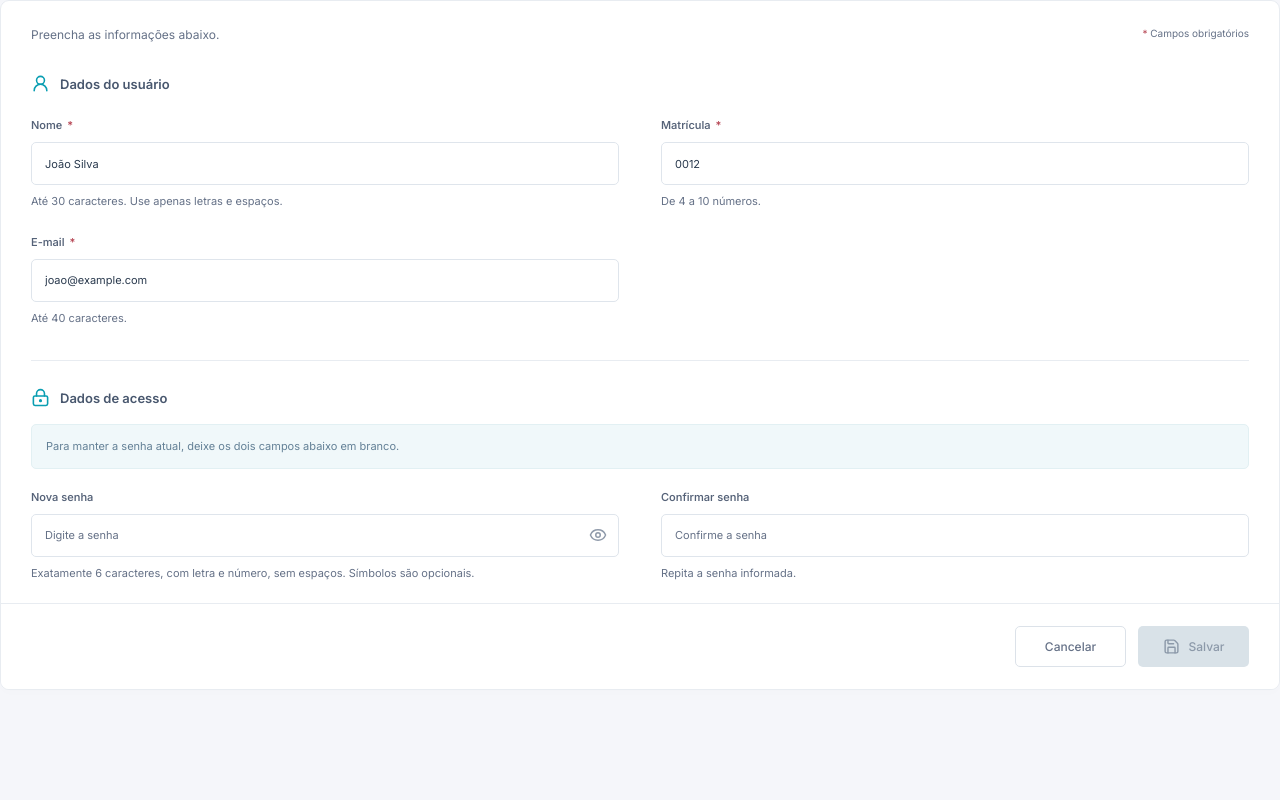
Test case: UserForm › associates duplicate errors with the field and permits correction
Replace the text in the field labelled "E-mail *" with "other@example.com" at (325, 280), box [31,259,619,302]
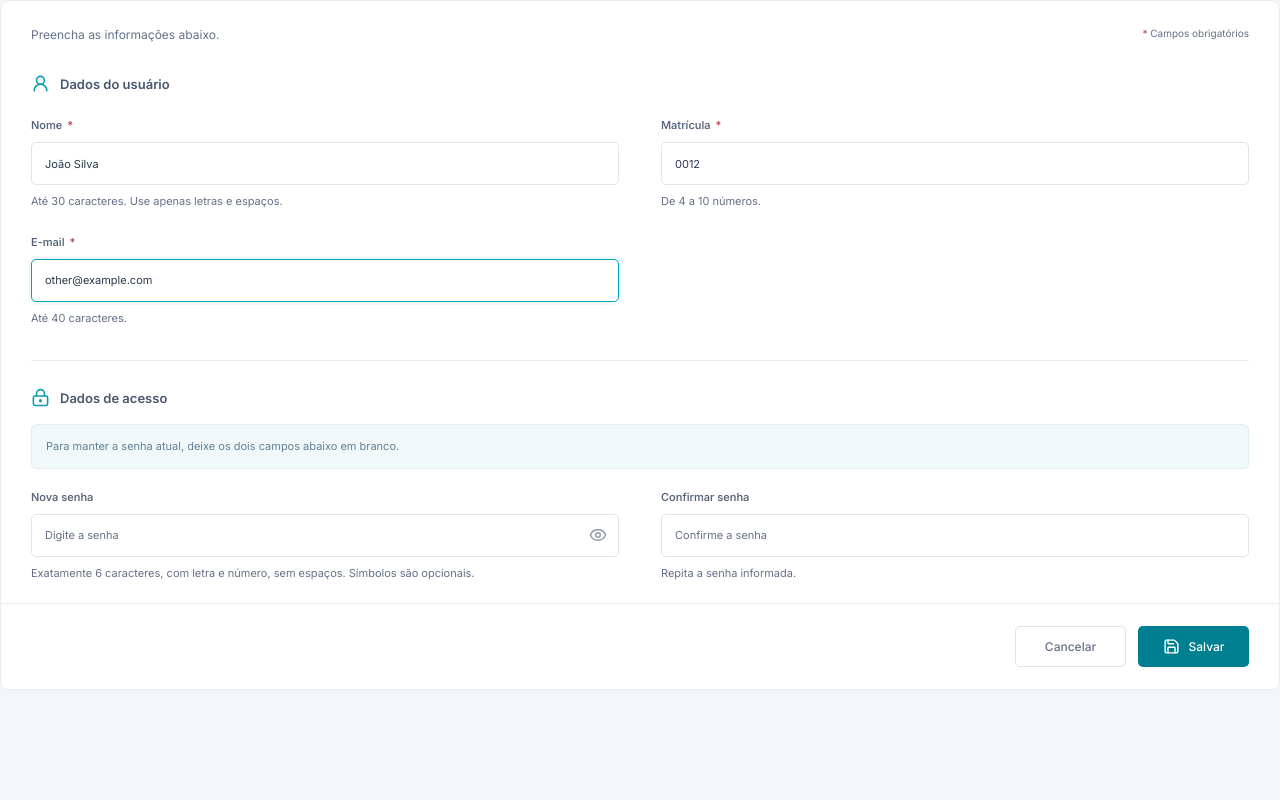
Click the button "Salvar".
click(1194, 647)  # box [1138,626,1249,668]
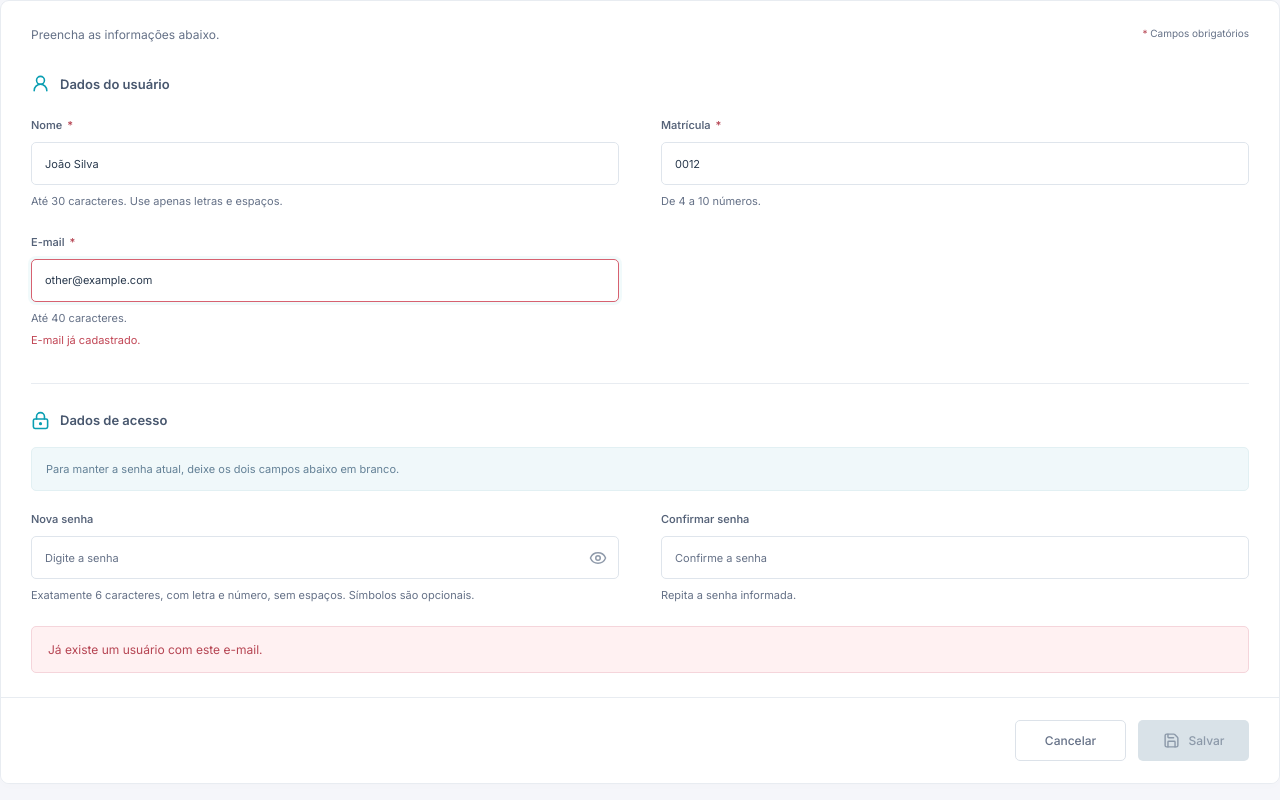
Replace the text in the field labelled "E-mail *" with "unique@example.com" at (325, 280), box [31,259,619,302]
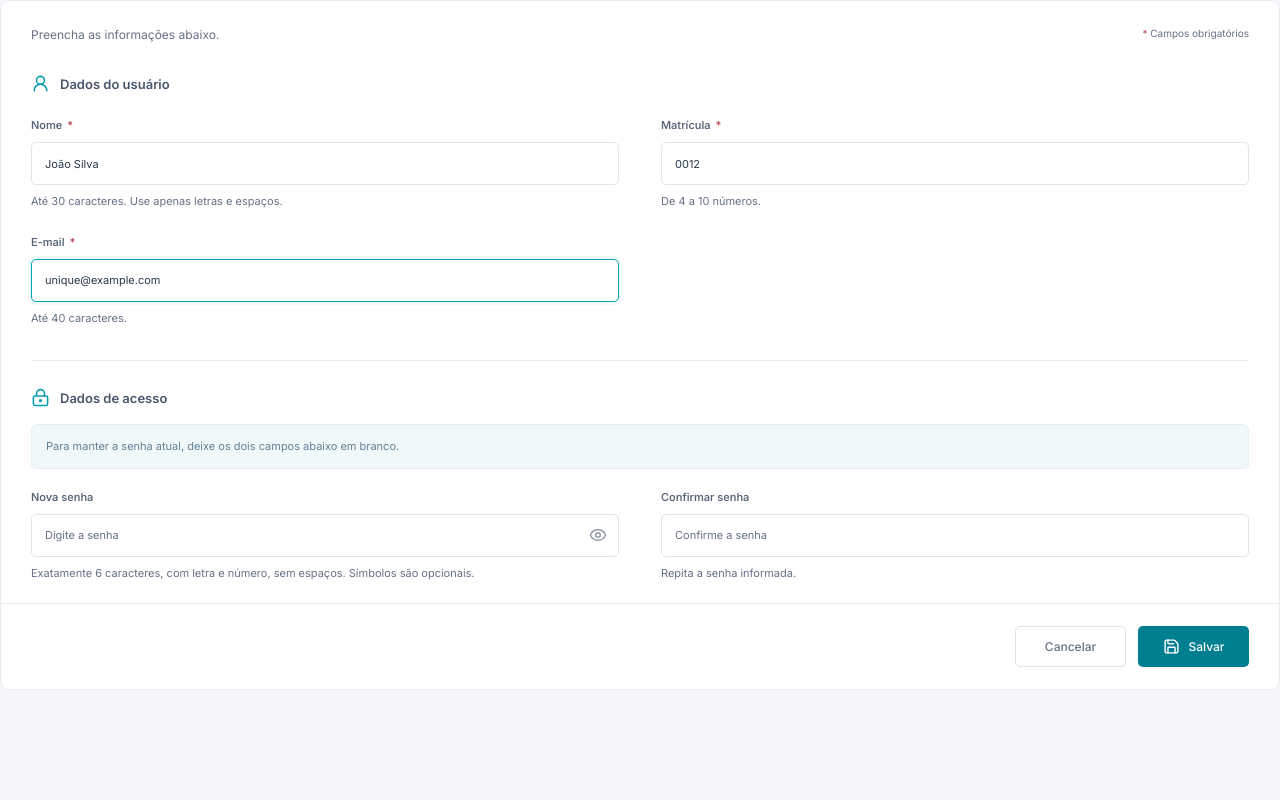
Check: the button "Salvar" is enabled, box [1138,626,1249,668]
